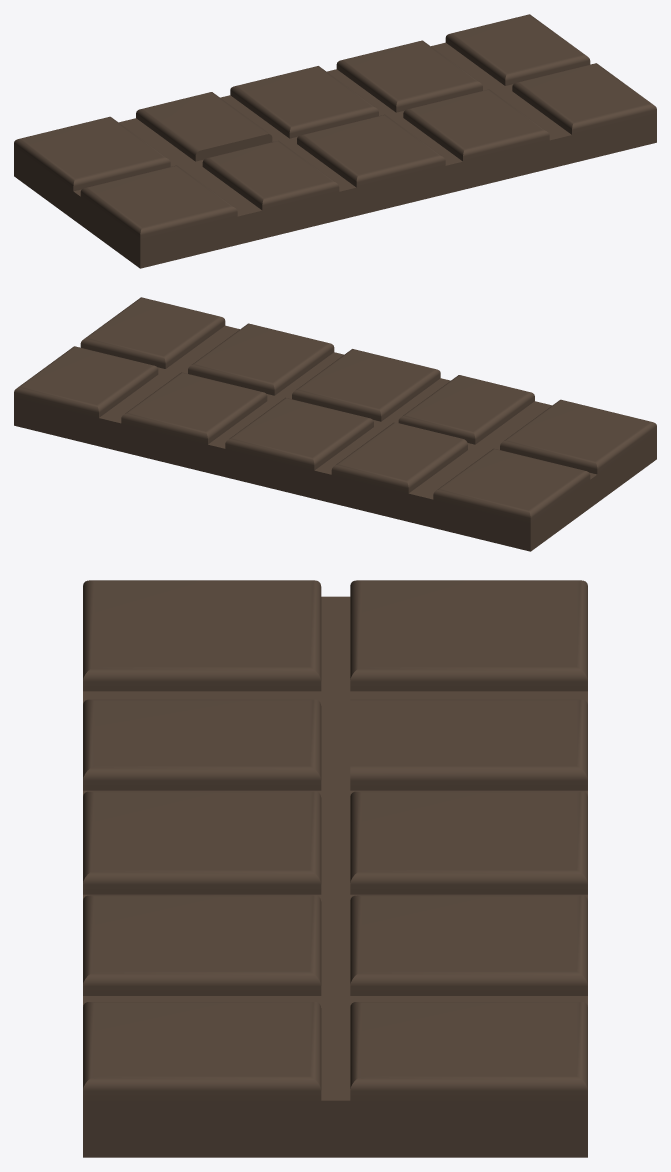
Rendered from chocolot.fbx.
3 views of the same model, one above another, from view 1: azimuth 30°, elevation 25°; view 2: azimuth 150°, elevation 25°; view 3: azimuth 270°, elevation 25° (orthographic). The views are drawn at different scales.
Visible parts, largest first — view 1: pCube9; view 2: pCube9; view 3: pCube9.
Boxes of the visible parts, x1,y1,x2,y2 form: pCube9: [14, 14, 656, 268]; pCube9: [14, 297, 656, 551]; pCube9: [83, 580, 587, 1157].
Size of the model in its own units: 4.86 by 0.344 by 2.06.
